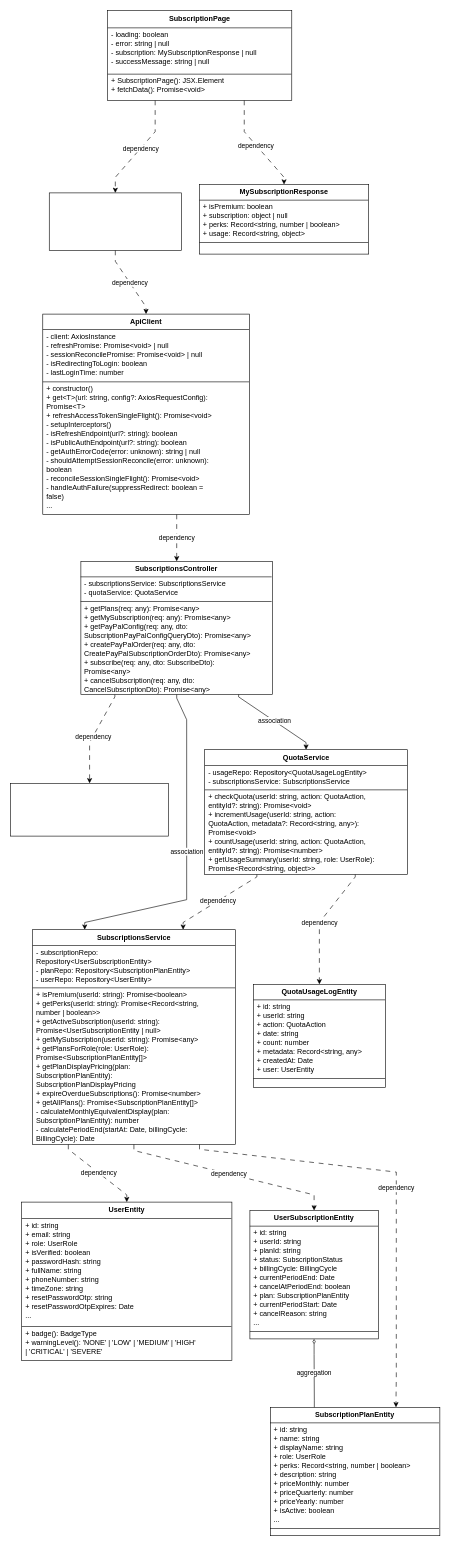
The diagram is 451 pixels wide and 1546 high, and some of its shapes have lost their labels. The centre of each missing label's shape, as x and y in pixels:
"getMySubscription + getMySubscription(): Promise<MySubscriptionResponse>" belongs at point 115,221.
"JwtAuthGuard + canActivate(context: any): boolean | Promise<boolean> | any" belongs at point 89,809.
